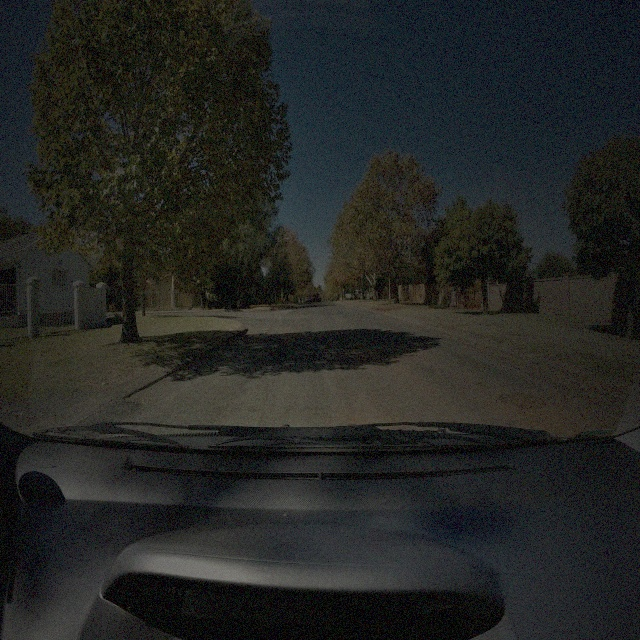pothole: (498, 388, 548, 412), (475, 380, 498, 394), (342, 344, 360, 354), (374, 350, 387, 356)
